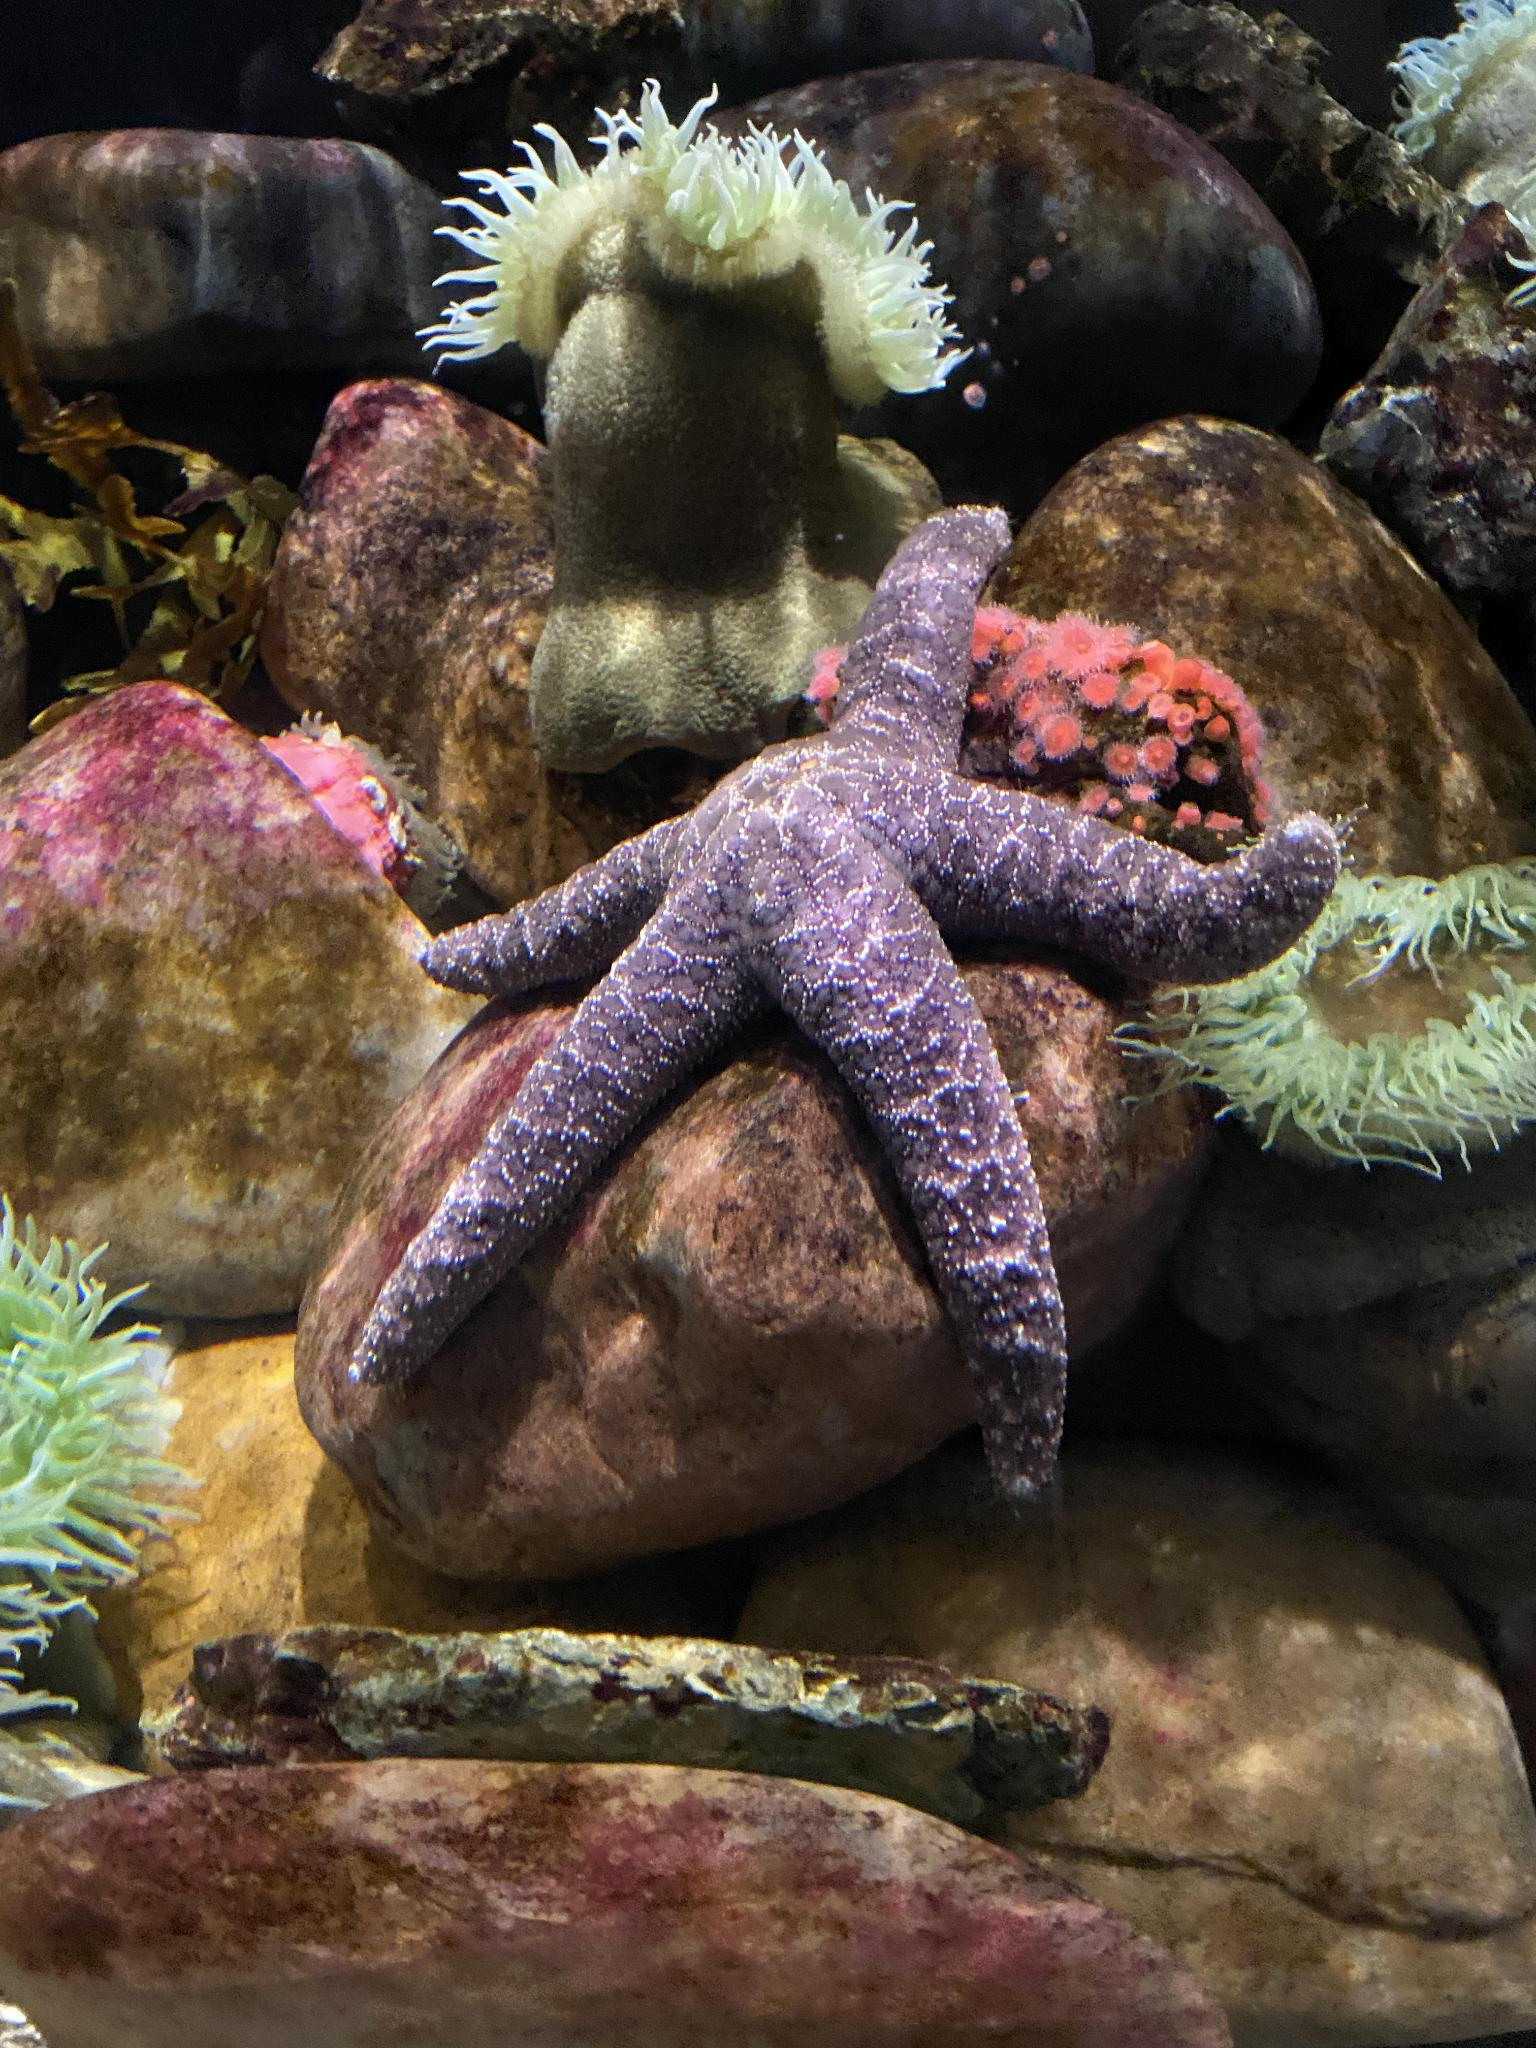starfish: (350, 502, 1338, 1524)
